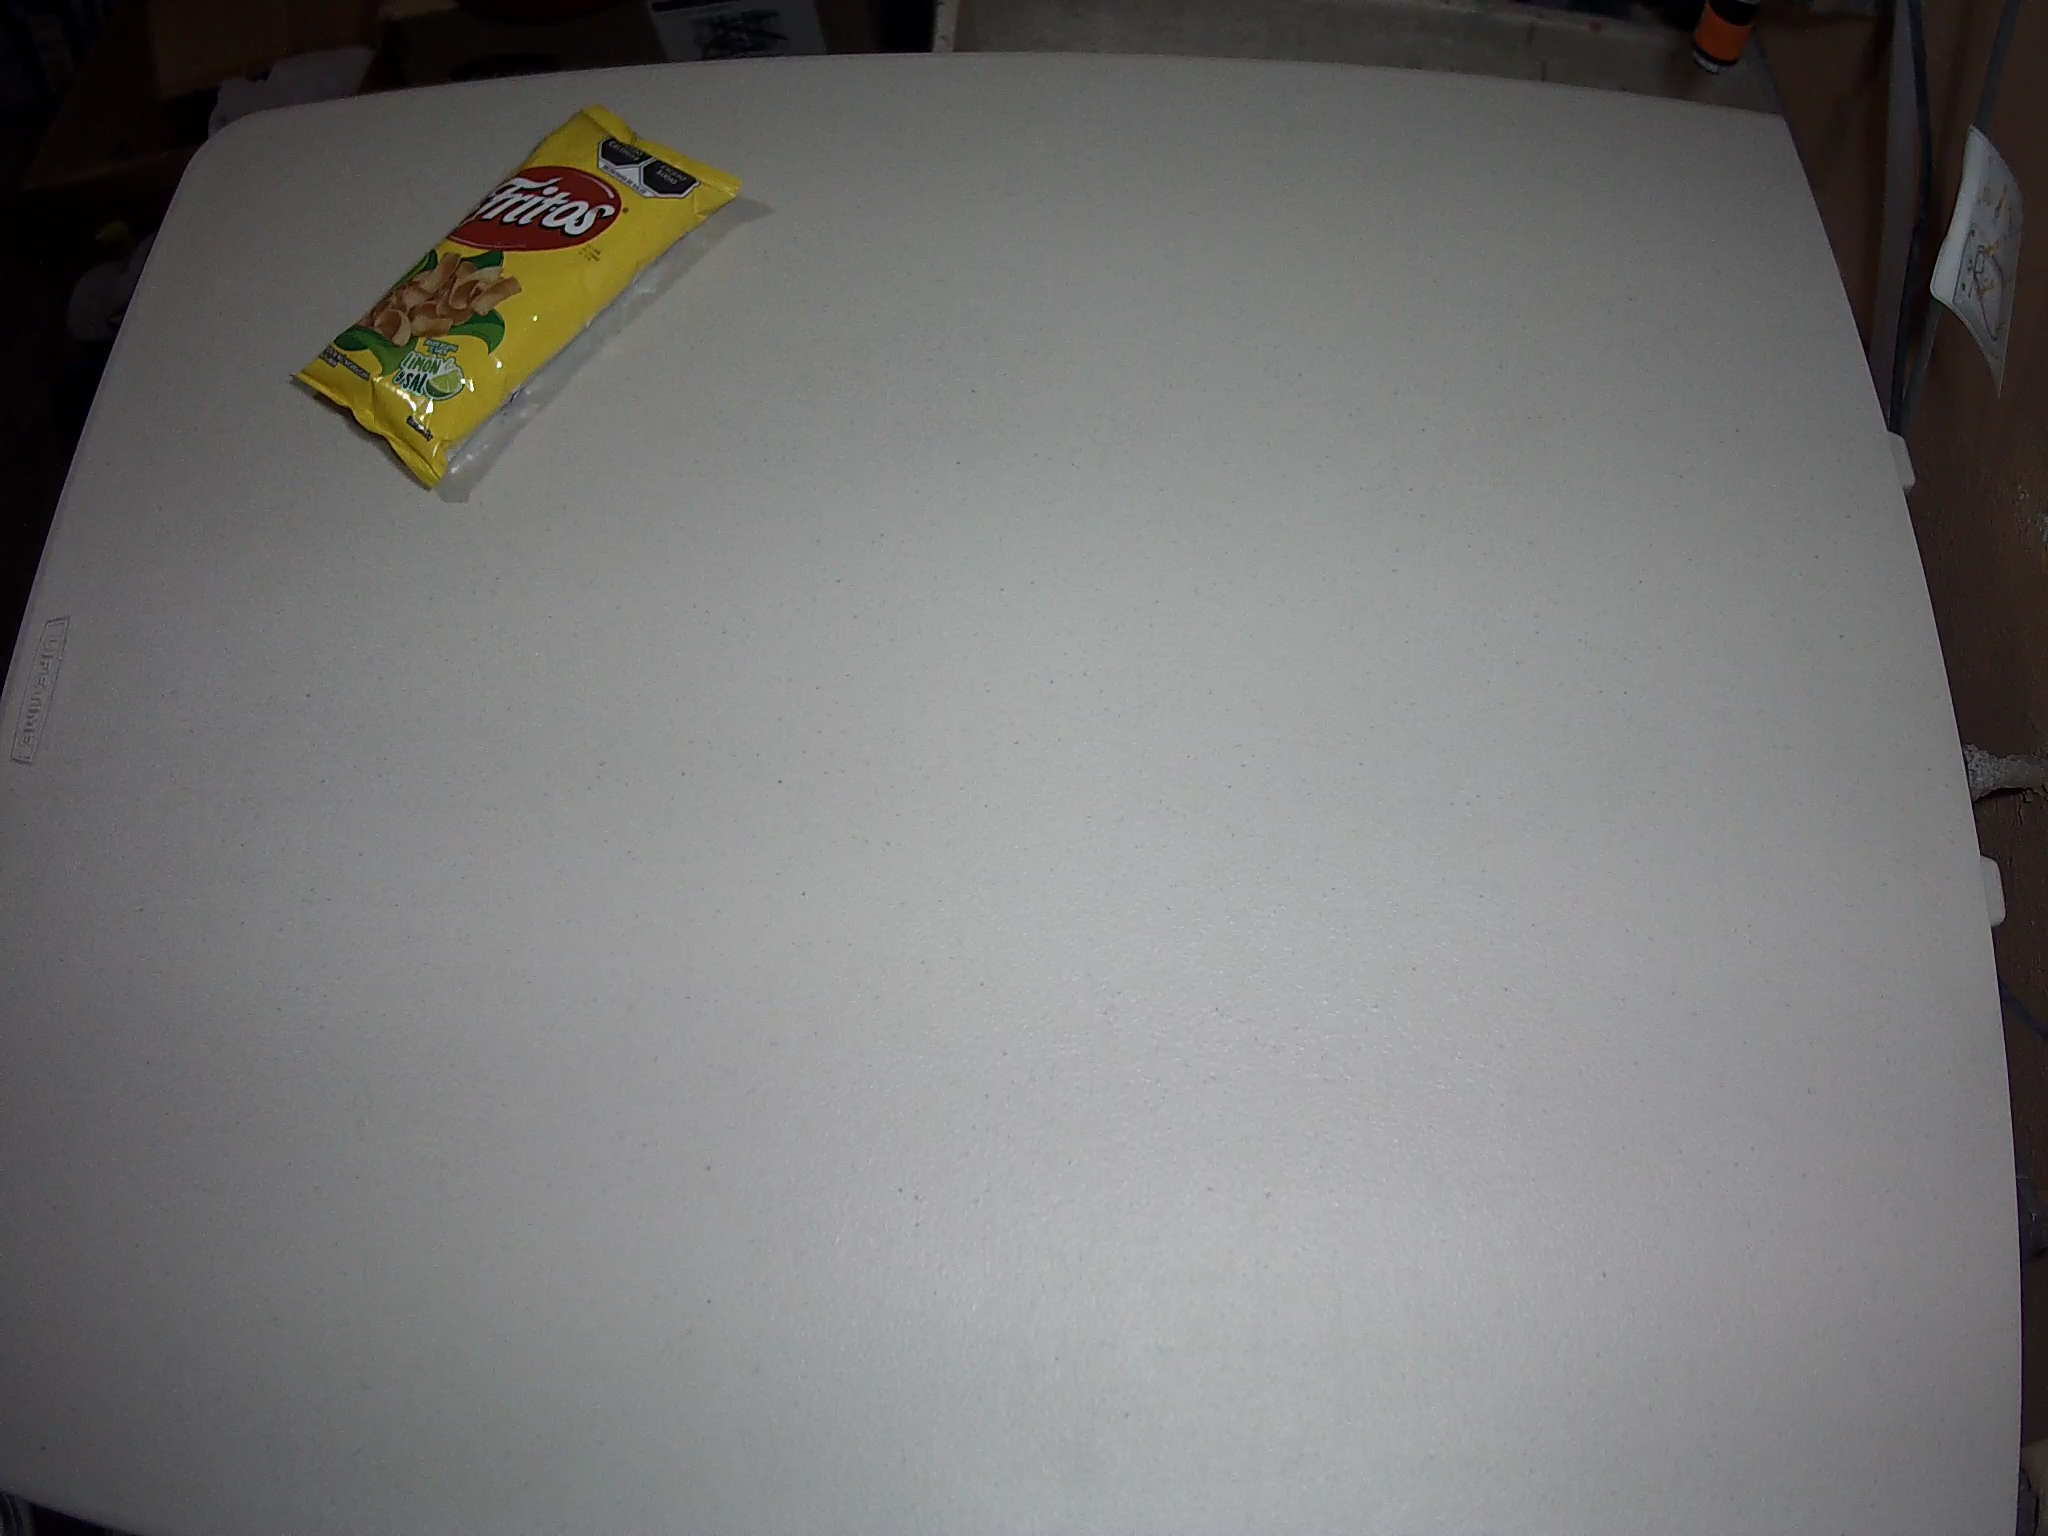FritosSalLimon_65_F: (290, 100, 747, 492)
